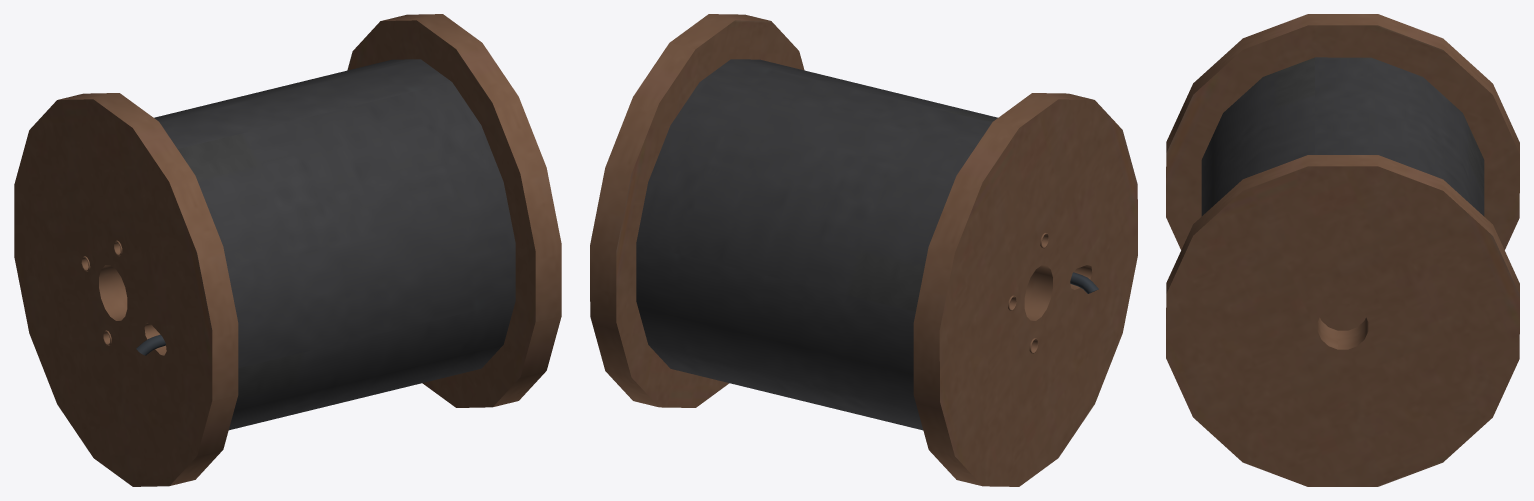
Rendered from touret_petit.glb.
The picture shows the model from 3 angles, left to right: view 1: azimuth 30°, elevation 25°; view 2: azimuth 150°, elevation 25°; view 3: azimuth 270°, elevation 25°; orthographic projection. The views are drawn at different scales.
Parts seen in each view (by area): view 1: Cable_Drum; view 2: Cable_Drum; view 3: Cable_Drum.
Boxes of the visible parts, <box> form: Cable_Drum: <box>14,14,561,486</box>; Cable_Drum: <box>590,14,1137,486</box>; Cable_Drum: <box>1166,14,1519,486</box>.
Bounding box in the file's own units: 1.05 × 0.981 × 0.981.
1 material, 1 textured.
